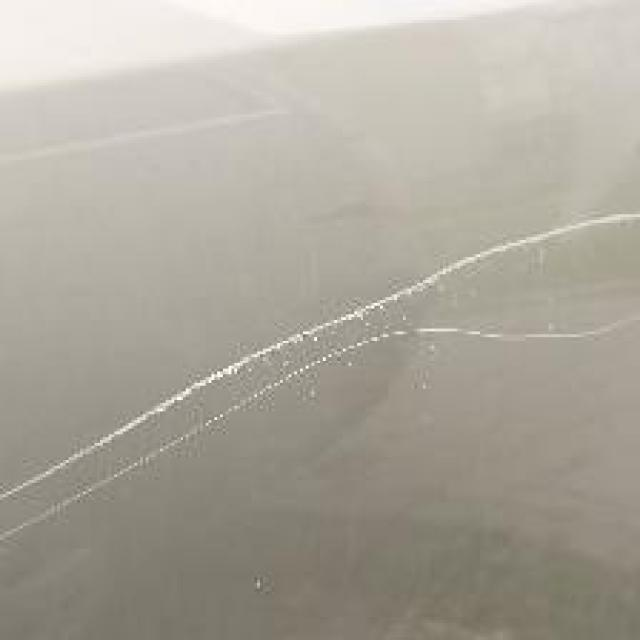door_dent_moderate: (129, 211, 637, 423)
